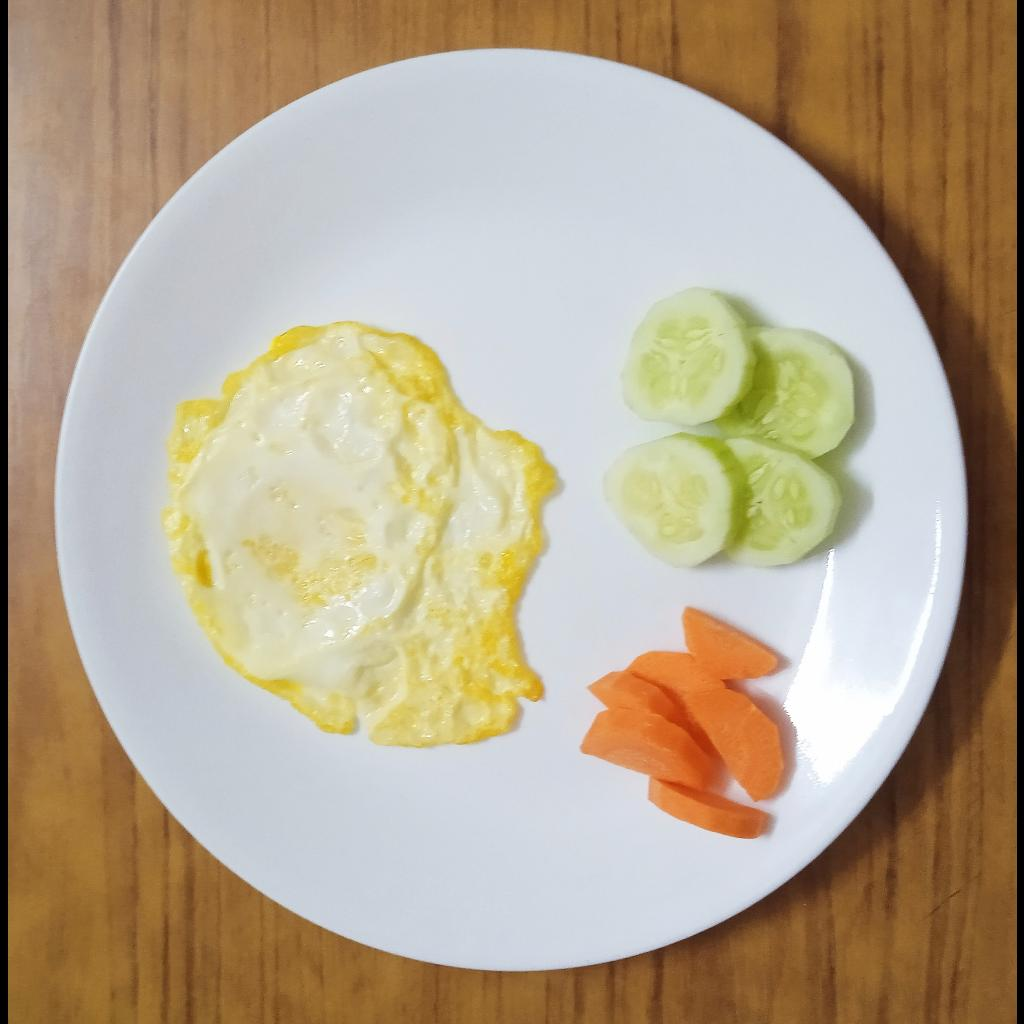carrot: (577, 603, 786, 839)
cucumber: (604, 286, 854, 568)
egg-poached: (161, 316, 557, 745)
